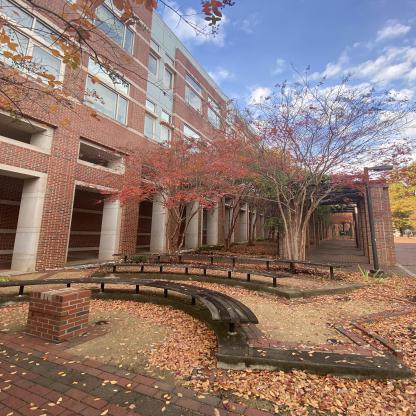EB-1: (2, 4, 403, 270)
